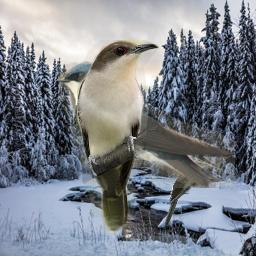Cuckoo: (77, 40, 160, 235), (162, 160, 209, 230)
Swallow: (58, 61, 235, 188)
